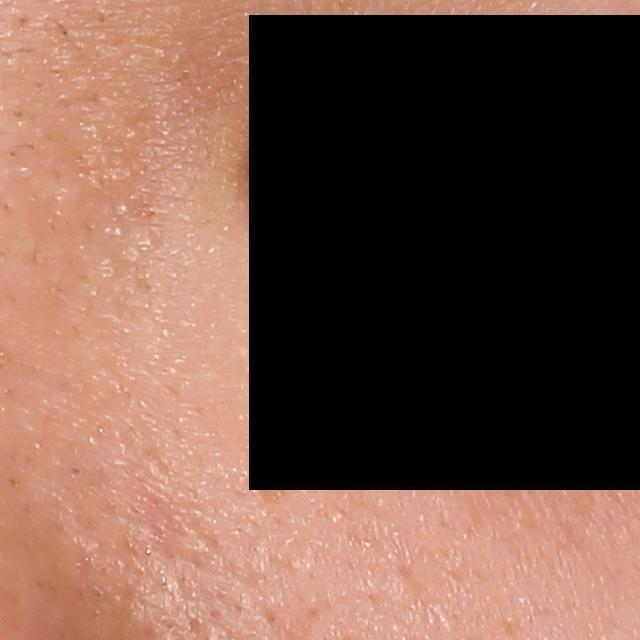melasma: (248, 469, 287, 507)
